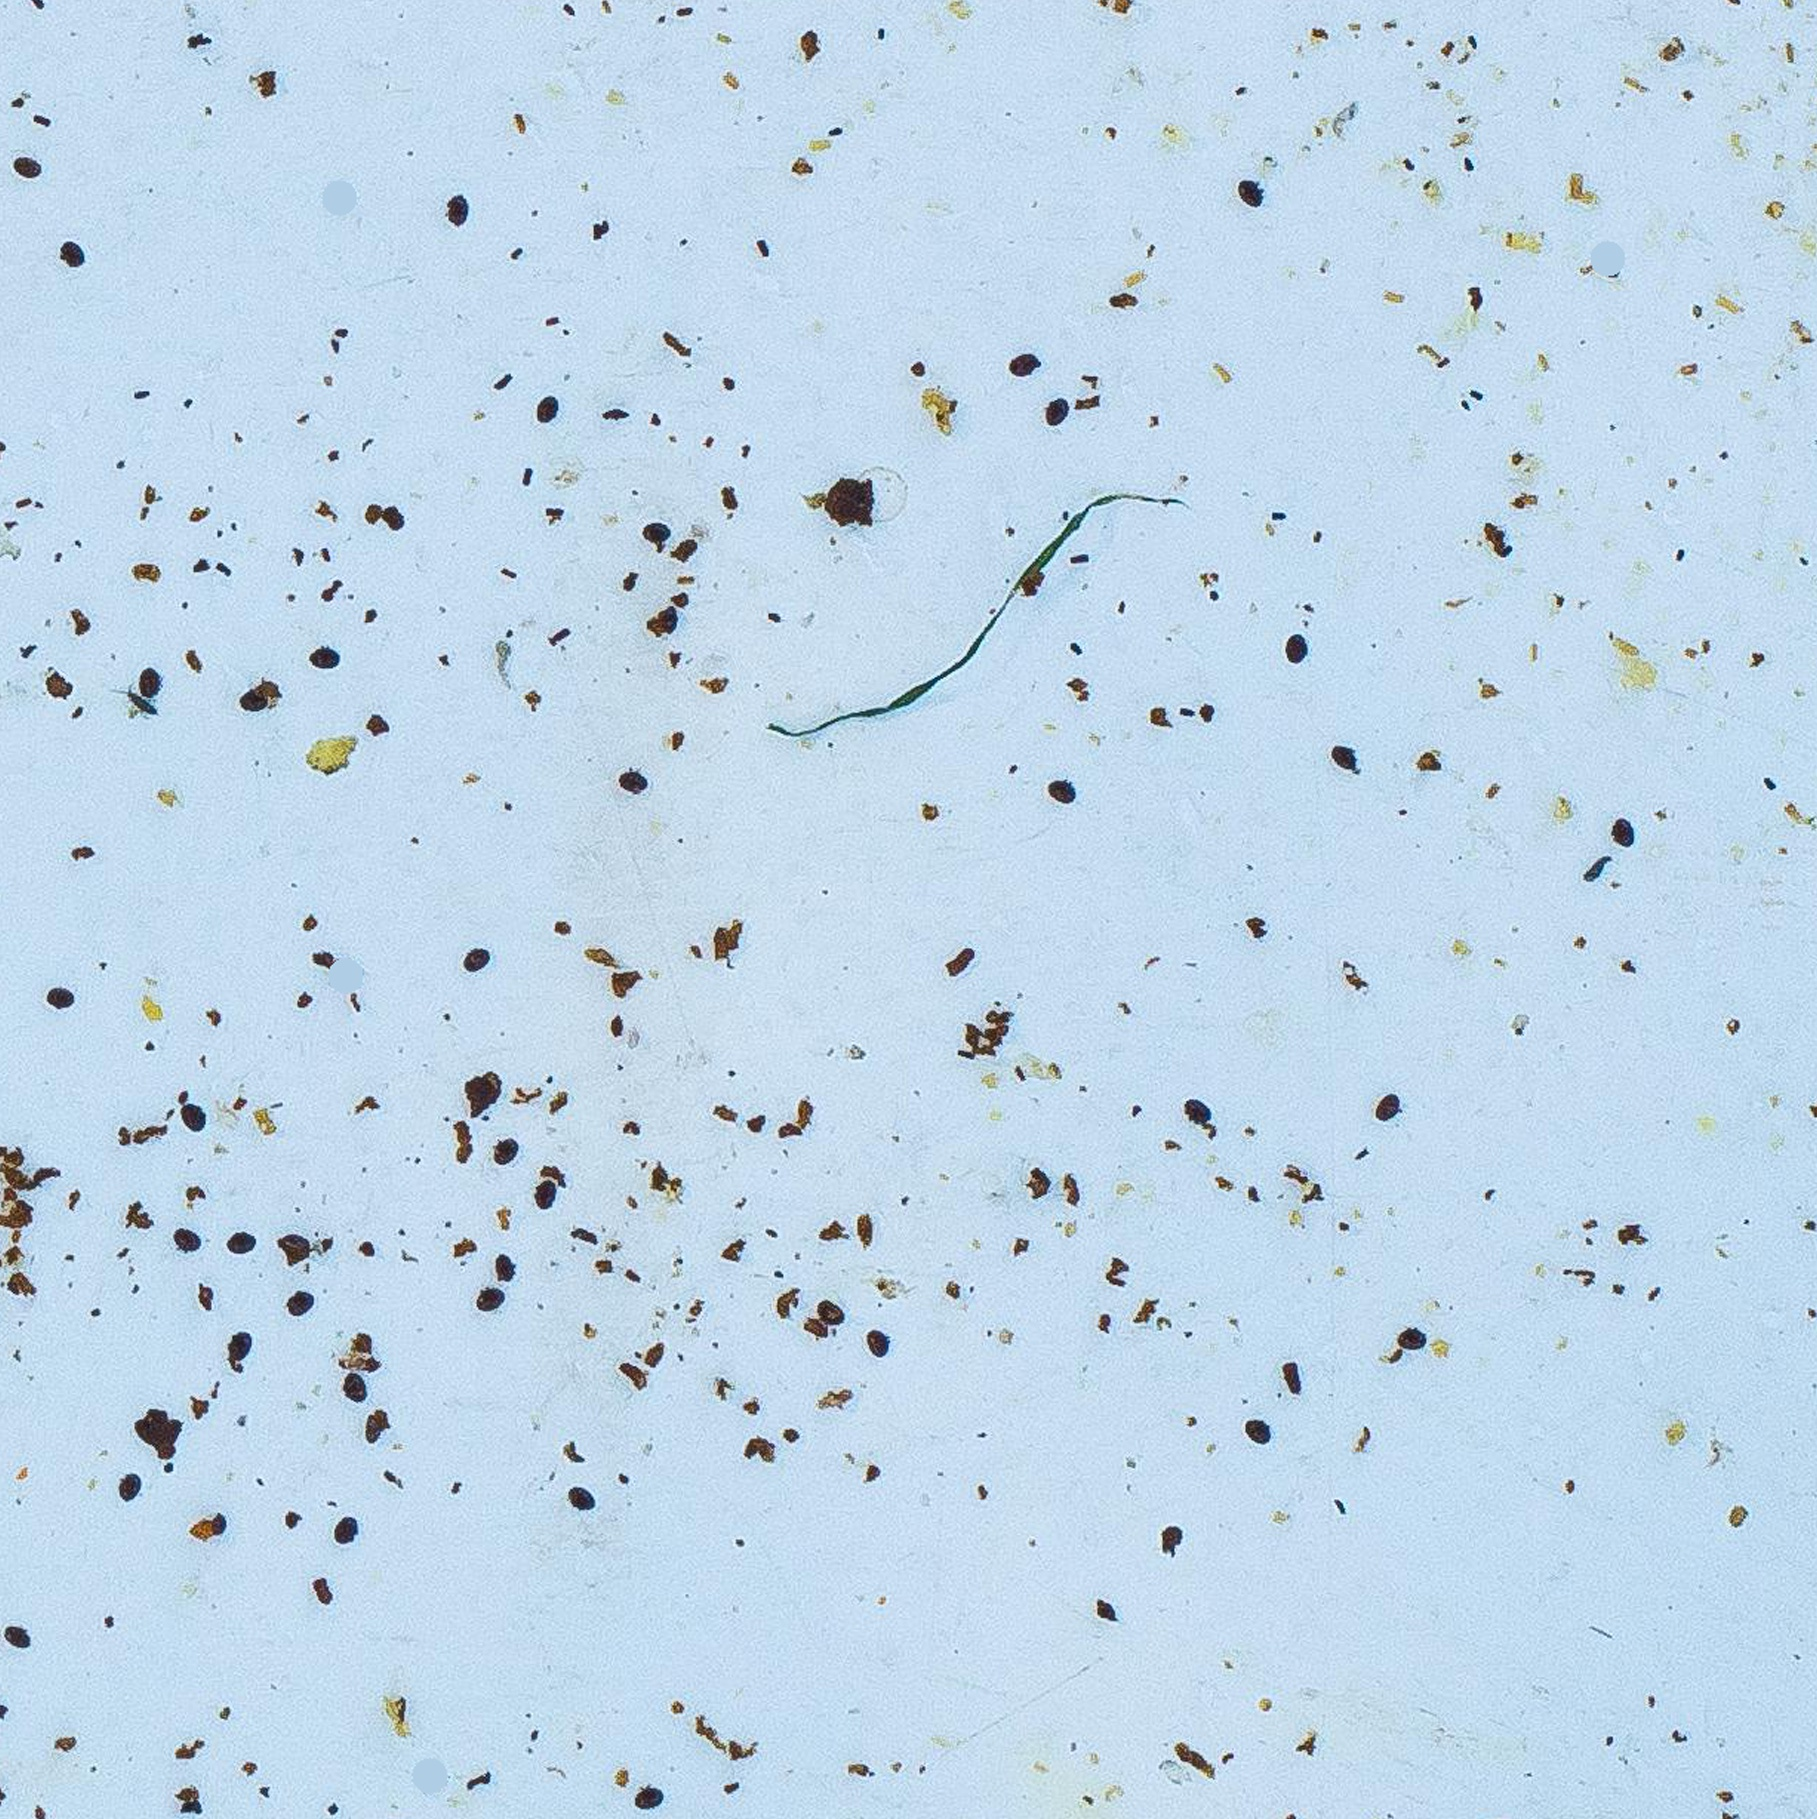Varroa: (130, 662, 165, 699), (339, 1370, 373, 1405), (441, 191, 474, 225), (1003, 344, 1037, 378), (527, 393, 561, 424), (52, 230, 83, 263), (238, 681, 271, 712), (631, 1782, 662, 1816), (474, 1281, 506, 1315), (43, 980, 75, 1014), (1328, 741, 1359, 772), (221, 1330, 253, 1361), (564, 1481, 596, 1511), (1241, 1413, 1271, 1445), (12, 155, 42, 186), (461, 940, 491, 972), (1047, 771, 1077, 800), (110, 1468, 140, 1498), (616, 764, 646, 794), (1373, 1093, 1403, 1123), (286, 1286, 314, 1316), (309, 642, 338, 672), (171, 1222, 201, 1250), (1286, 629, 1314, 659), (3, 1623, 32, 1653), (641, 519, 669, 548), (1398, 1321, 1424, 1351), (328, 1509, 354, 1539), (1042, 394, 1068, 423), (819, 1296, 845, 1325), (531, 1178, 557, 1207), (1235, 171, 1261, 200), (1607, 810, 1634, 839), (864, 1330, 890, 1356), (1186, 1097, 1213, 1123), (226, 1225, 253, 1251), (489, 1142, 516, 1168), (181, 1105, 206, 1130)
